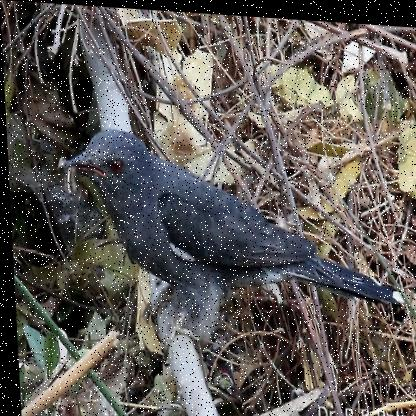Burung: (62, 125, 394, 377)
